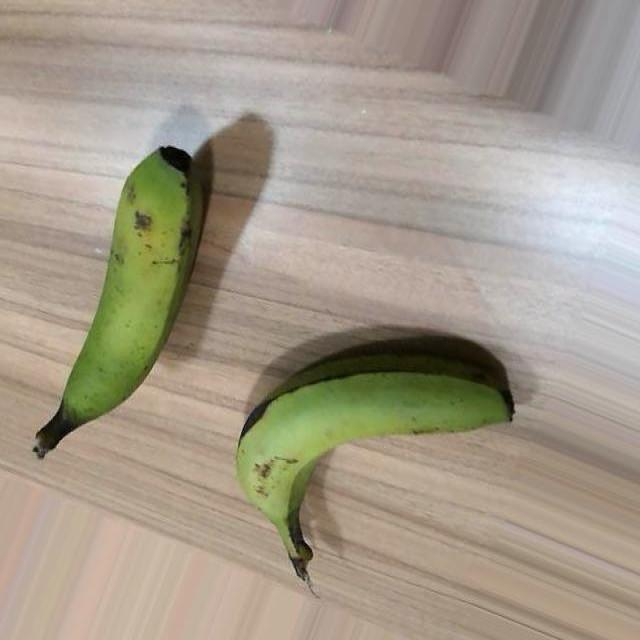Unripe: (237, 343, 515, 578), (33, 143, 205, 464)
